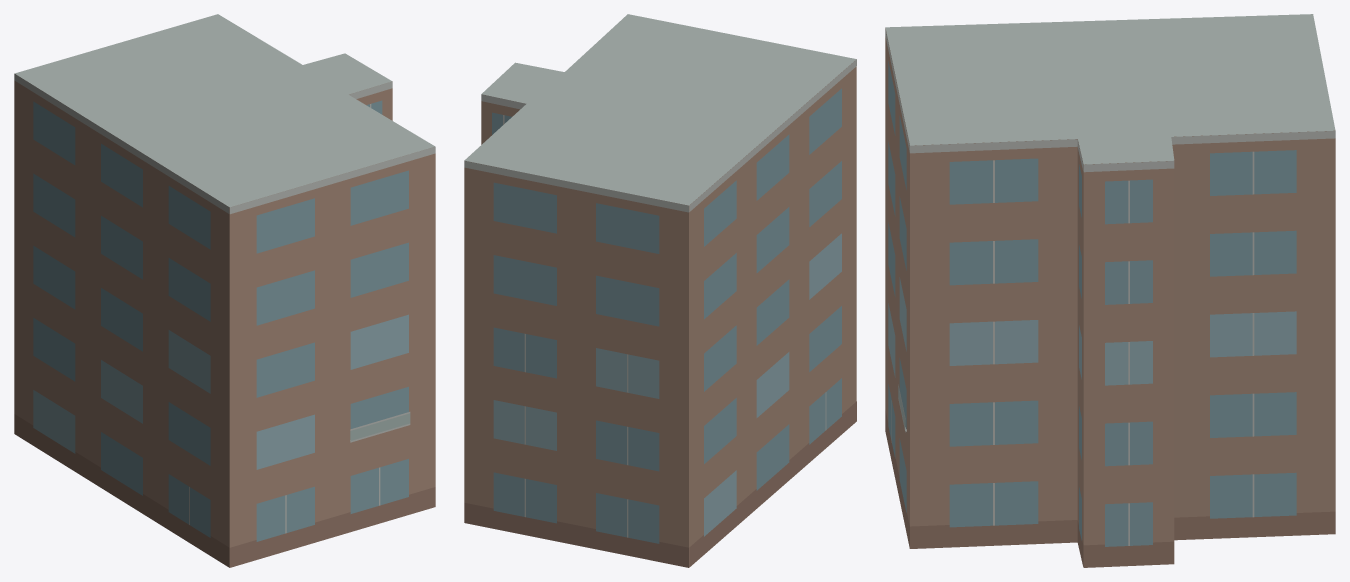
Rendered from survey-upis-32997038.glb.
3 renders of one model, left to right at view 1: azimuth 30°, elevation 25°; view 2: azimuth 150°, elevation 25°; view 3: azimuth 270°, elevation 25°, orthographic. The views are drawn at different scales.
Parts seen in each view (by area): view 1: survey-upis-32997038.tmp; view 2: survey-upis-32997038.tmp; view 3: survey-upis-32997038.tmp.
Boxes of the visible parts, x1=… form: survey-upis-32997038.tmp: x1=14, y1=14, x2=435, y2=567; survey-upis-32997038.tmp: x1=464, y1=14, x2=856, y2=567; survey-upis-32997038.tmp: x1=885, y1=14, x2=1335, y2=567.
Size of the model in its own units: 10.17 by 12.7 by 12.86.
